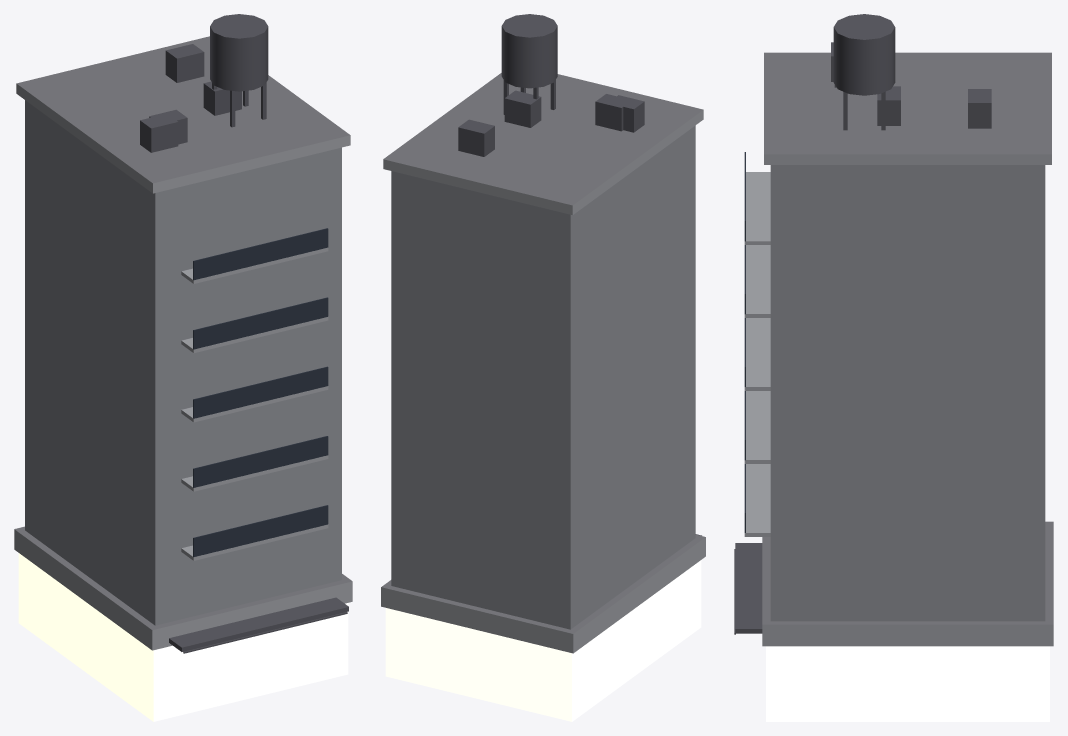
The model's file is r1012_balc.glb.
3 renders of one model, left to right at view 1: azimuth 30°, elevation 25°; view 2: azimuth 150°, elevation 25°; view 3: azimuth 270°, elevation 25°, orthographic. The views are drawn at different scales.
Parts seen in each view (by area): view 1: r1012_balc; view 2: r1012_balc; view 3: r1012_balc.
Part boxes in pixels (x1,y1,x2,y2): r1012_balc: (14,14,352,721); r1012_balc: (381,14,705,721); r1012_balc: (734,14,1053,721).
Size of the model in its own units: 10.3 by 30.9 by 13.49.
